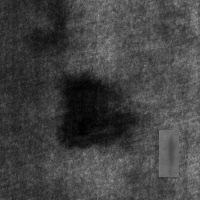inclusion: (159, 130, 179, 177)
patches: (55, 71, 138, 148)
